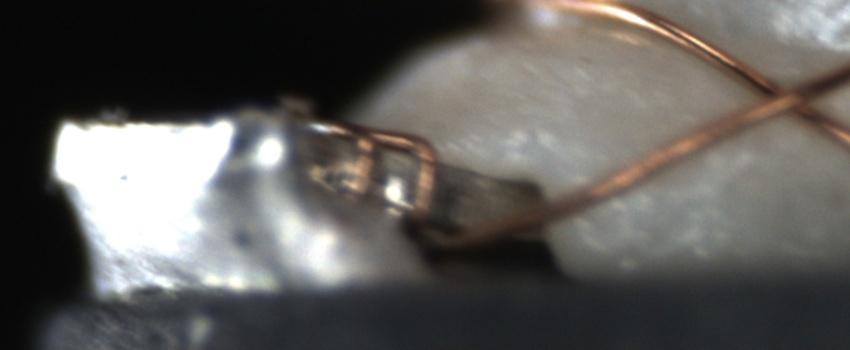CL: (742, 64, 840, 130)
TE: (299, 121, 441, 205)
